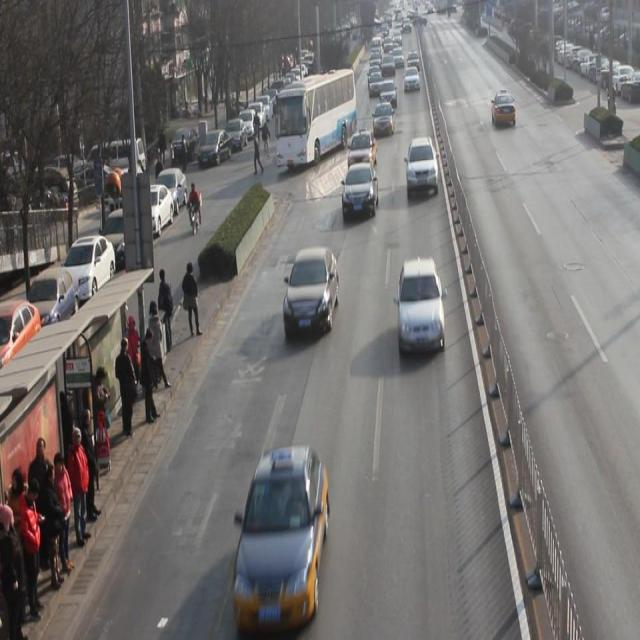car: (232, 446, 330, 615), (284, 248, 340, 340), (398, 260, 447, 353), (341, 163, 380, 223), (407, 138, 439, 200), (348, 131, 379, 175), (492, 93, 517, 129), (372, 103, 396, 138), (379, 81, 399, 109)
van: (274, 71, 356, 172)
